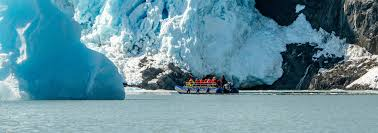boat: (176, 74, 239, 96)
